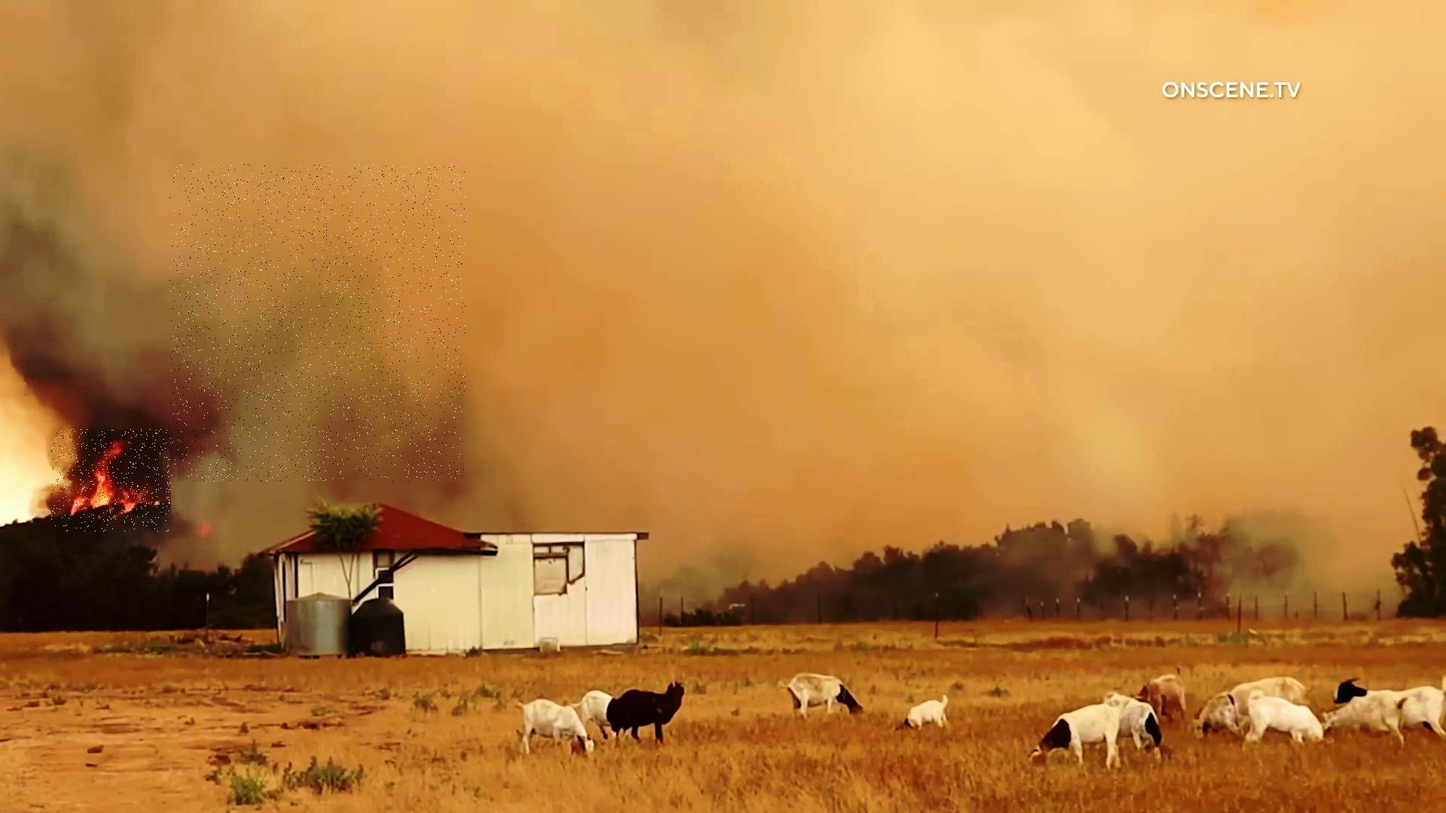fire: (51, 429, 171, 532)
smoke: (170, 164, 466, 482)
